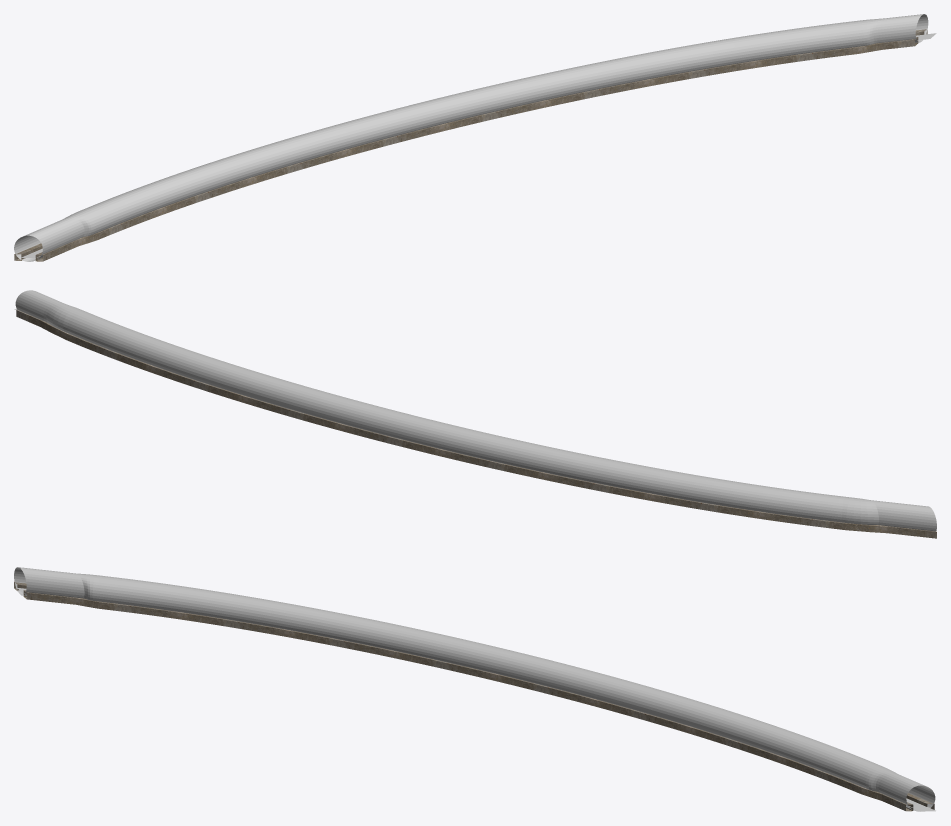
File: sewer.obj
3 views of the same model, one above another, from view 1: azimuth 30°, elevation 25°; view 2: azimuth 150°, elevation 25°; view 3: azimuth 330°, elevation 25° (orthographic).
Parts seen in each view (by area): view 1: Sienos_Cylinder, Cementas_Cube.001; view 2: Sienos_Cylinder, Cementas_Cube.001; view 3: Sienos_Cylinder, Cementas_Cube.001.
Part boxes in pixels (left/top/right/bottom): Sienos_Cylinder: left=14, top=14, right=928, bottom=261; Cementas_Cube.001: left=14, top=29, right=927, bottom=261; Sienos_Cylinder: left=15, top=290, right=936, bottom=531; Cementas_Cube.001: left=16, top=310, right=936, bottom=538; Sienos_Cylinder: left=14, top=567, right=935, bottom=811; Cementas_Cube.001: left=14, top=581, right=934, bottom=811.
Bounding box in the file's own units: 183 × 5 × 16.52.
